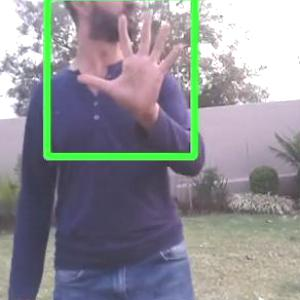follow_hand: (77, 4, 193, 111)
